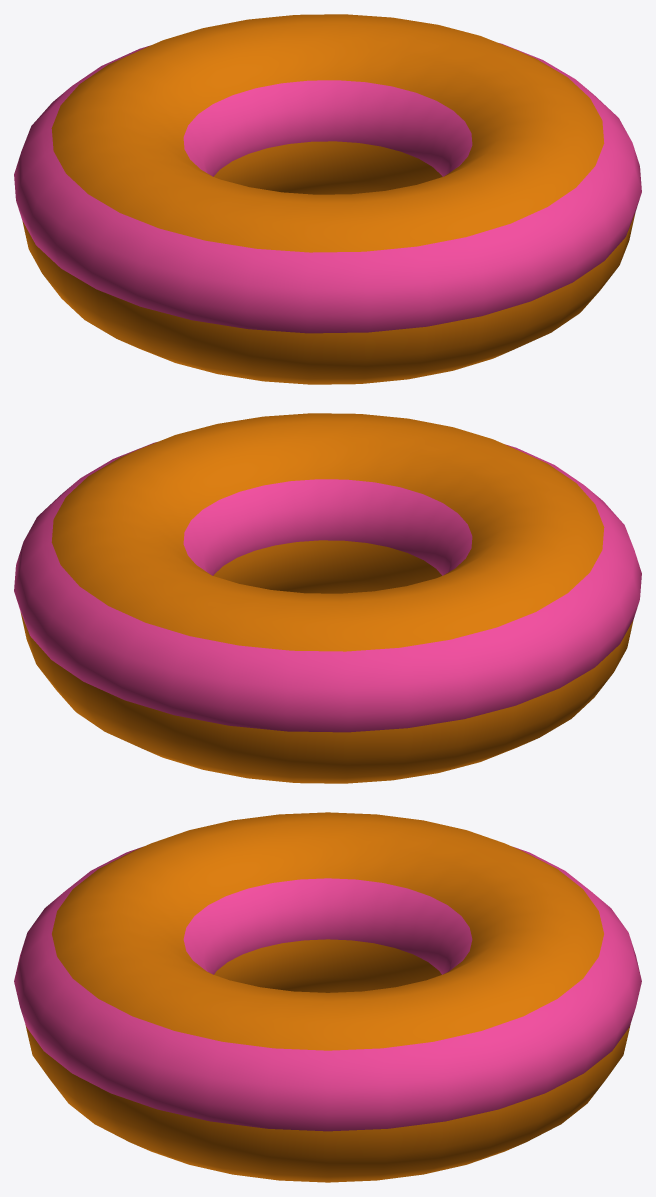
Rendered from donut.glb.
3 views of the same model, one above another, from view 1: azimuth 30°, elevation 25°; view 2: azimuth 150°, elevation 25°; view 3: azimuth 270°, elevation 25° (orthographic).
Bounding box in the file's own units: 0.5292 × 0.16 × 0.5292.
